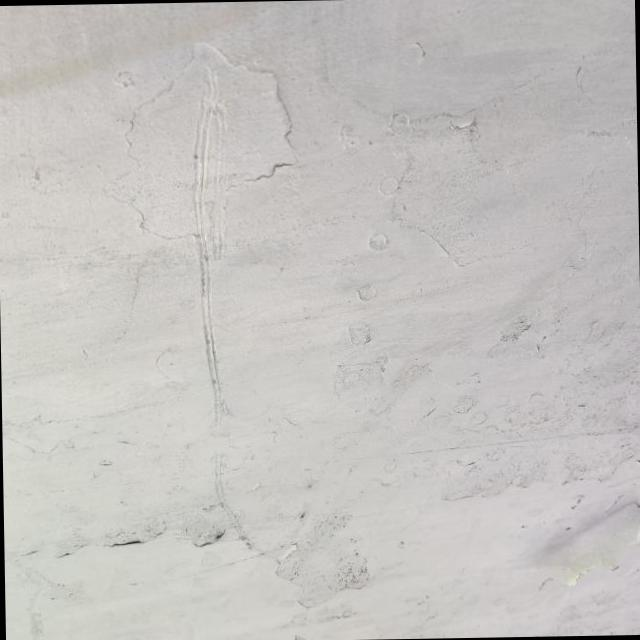Paint-off: (521, 492, 640, 635)
Scratch: (128, 44, 281, 426)
